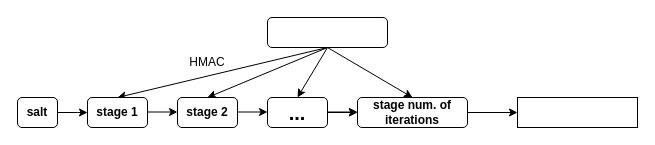
The diagram is 655 pixels wide and 145 high, and some of its shapes have lost their labels. The shapes that lost their labels are listed below. From the top down, each one's centre as x and y in pixels, then its label:
(327,32): raw password
(577,112): FINAL HASHED VALUE
